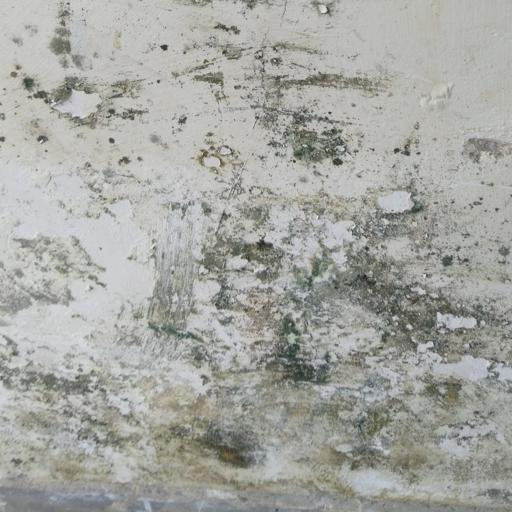algae: (17, 131, 512, 504)
